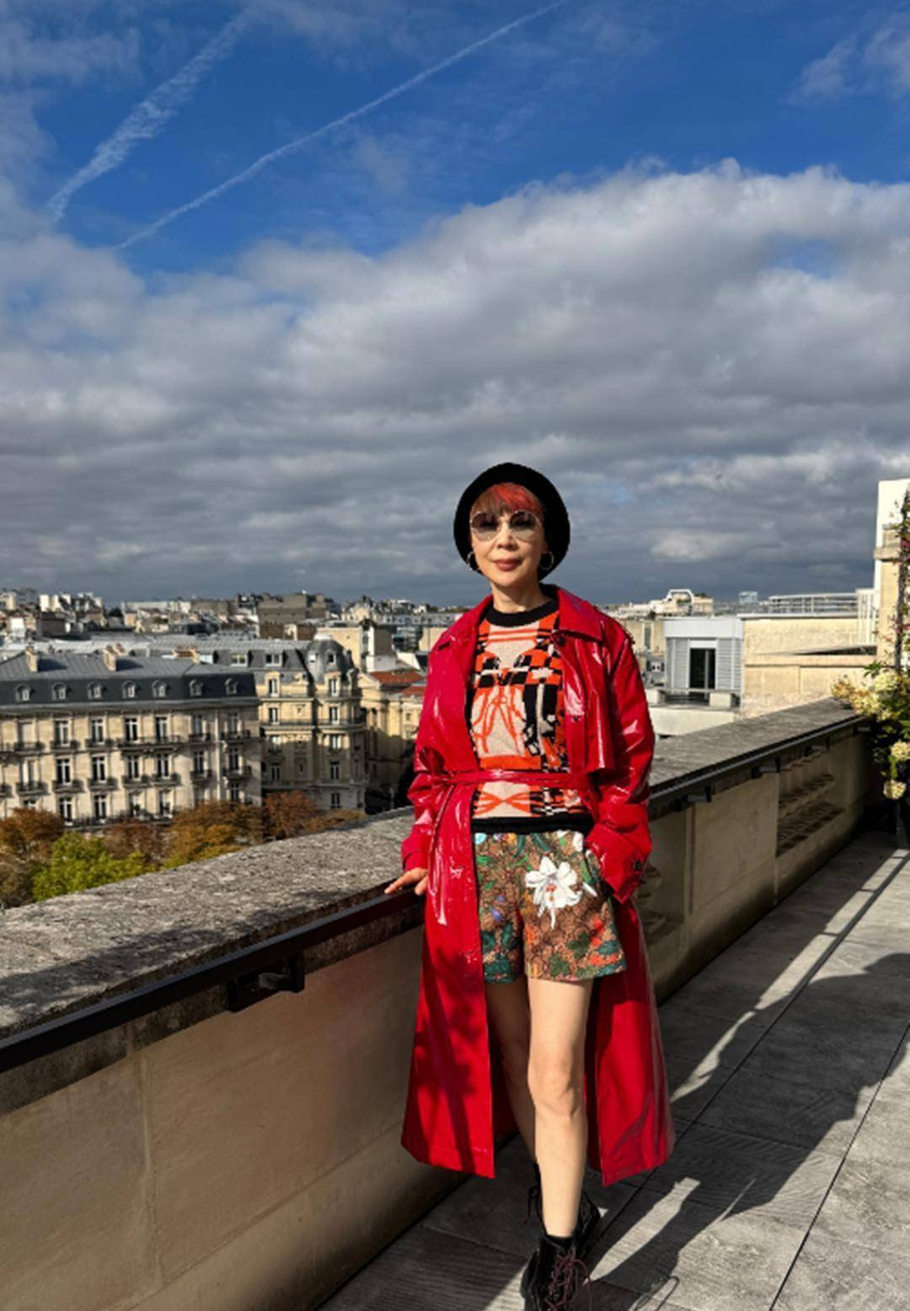up: (388, 435, 682, 1299)
